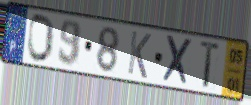8: (96, 26, 122, 74)
9: (57, 18, 82, 69)
K: (126, 28, 153, 81)
O: (26, 13, 56, 65)
T: (198, 38, 222, 91)
X: (160, 33, 194, 88)
